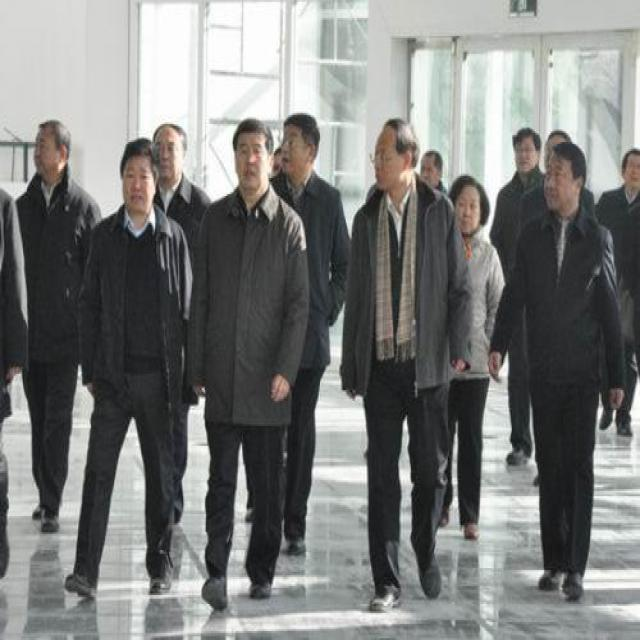head: (370, 111, 418, 201), (227, 115, 275, 203), (543, 127, 588, 218), (275, 107, 323, 184), (115, 134, 158, 217), (446, 168, 490, 244), (30, 109, 72, 186), (152, 112, 188, 188), (507, 121, 541, 181), (418, 145, 445, 197), (621, 141, 640, 199)
person: (344, 113, 473, 622), (187, 117, 312, 618), (512, 140, 633, 615), (85, 130, 192, 604), (5, 110, 104, 537), (274, 116, 355, 566), (439, 163, 512, 560), (481, 116, 547, 478), (591, 135, 640, 453)
